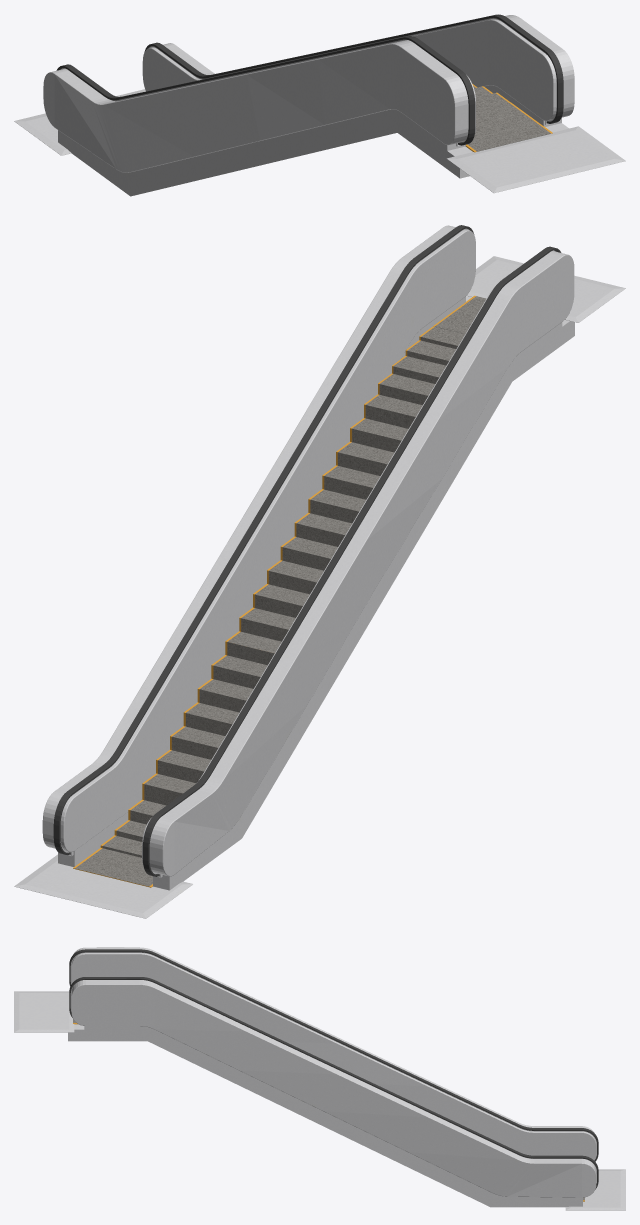
The model's file is Escalator.fbx.
3 renders of one model, top to bottom at view 1: azimuth 30°, elevation 25°; view 2: azimuth 150°, elevation 25°; view 3: azimuth 270°, elevation 25°, orthographic. The views are drawn at different scales.
Visible parts, largest first — view 1: SMS Escalator 02.Shape; view 2: SMS Escalator 02.Shape; view 3: SMS Escalator 02.Shape.
Part boxes in pixels (x1=…): SMS Escalator 02.Shape: x1=14, y1=14, x2=625, y2=196; SMS Escalator 02.Shape: x1=14, y1=225, x2=625, y2=918; SMS Escalator 02.Shape: x1=14, y1=947, x2=625, y2=1210.
Size of the model in its own units: 196 by 502 by 1231.
2 materials, 2 textured.
